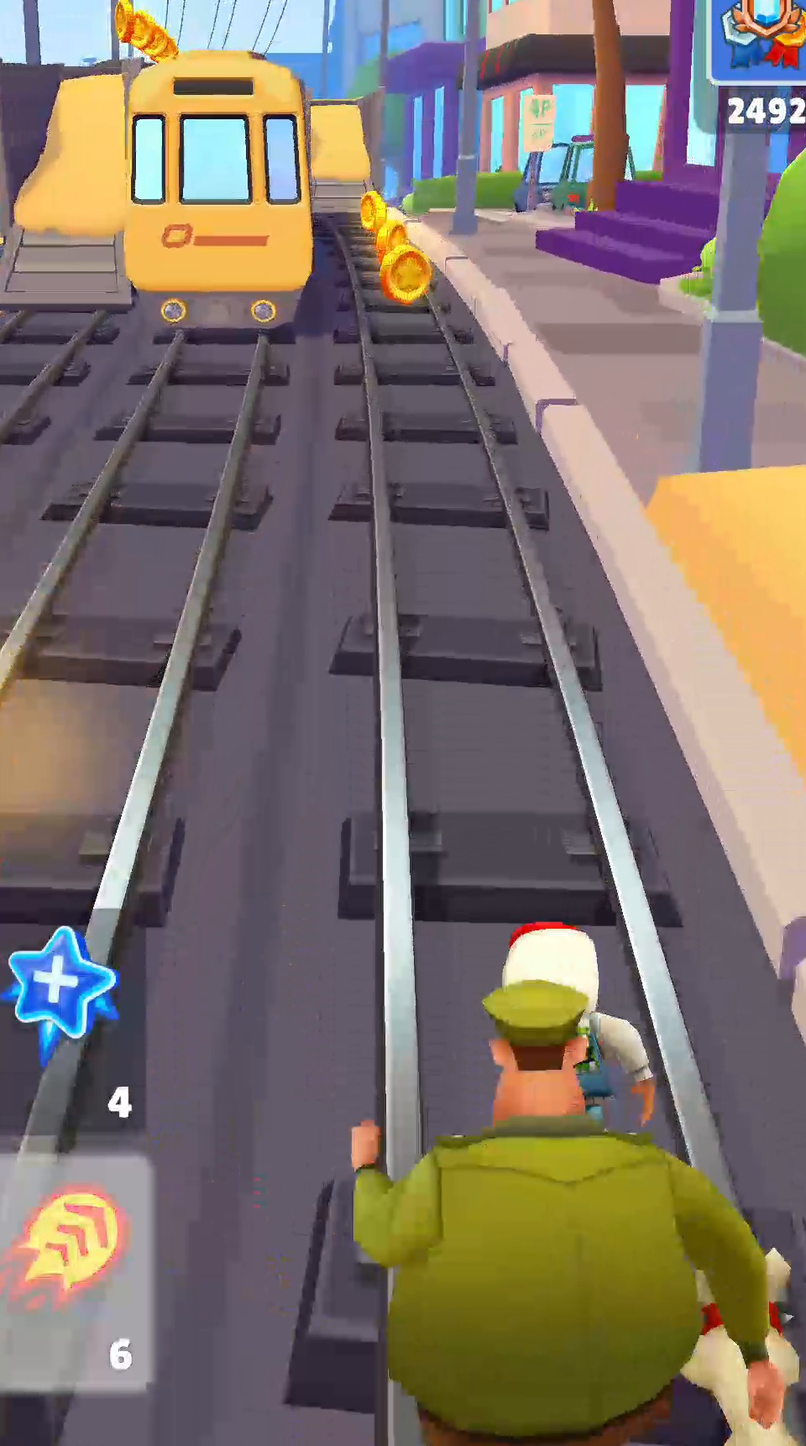climber: (0, 73, 133, 309), (311, 101, 369, 208)
police: (353, 966, 784, 1445)
train: (123, 52, 312, 327)
